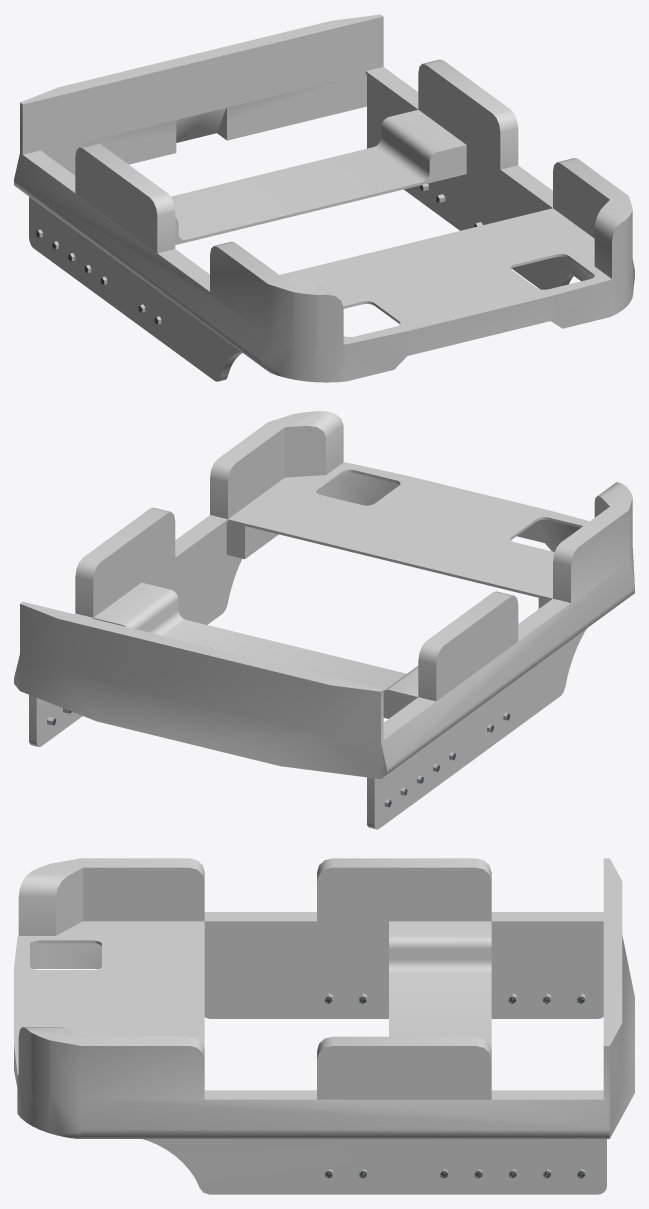
The model's file is MainCarShell.dae.
The picture shows the model from 3 angles, top to bottom: view 1: azimuth 30°, elevation 25°; view 2: azimuth 150°, elevation 25°; view 3: azimuth 270°, elevation 25°; orthographic projection. The views are drawn at different scales.
Parts seen in each view (by area): view 1: Shell; view 2: Shell; view 3: Shell.
Part boxes in pixels (x1=…): Shell: x1=14, y1=14, x2=634, y2=382; Shell: x1=14, y1=411, x2=634, y2=829; Shell: x1=14, y1=858, x2=634, y2=1194.
Size of the model in its own units: 57.95 by 78.43 by 21.29.
18 materials, 15 textured.
